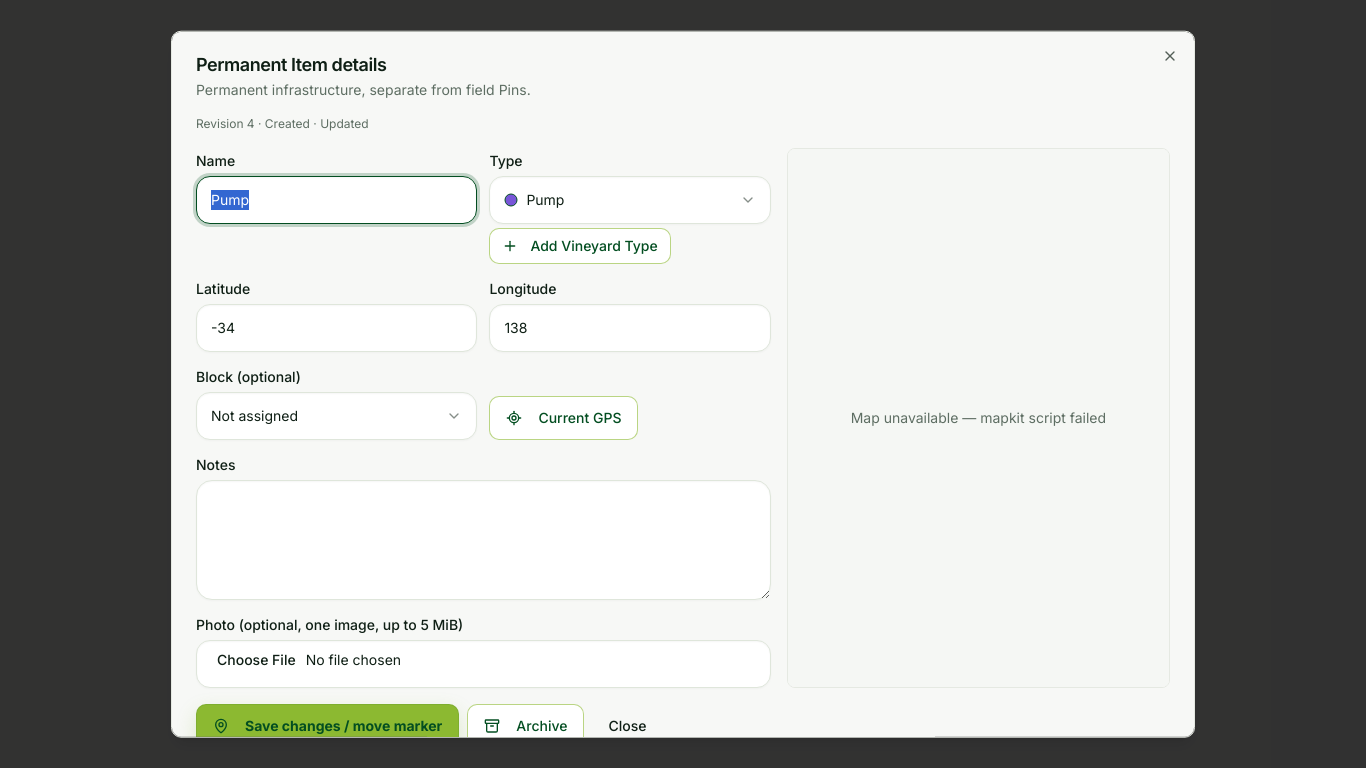
Test: owner saves edits and moves with the exact existing revision
This screenshot has width=1366, height=768.
Replace the text in the field labelled "Name" with "Moved pump" at {"x": 337, "y": 200}, box [196,176,477,224]
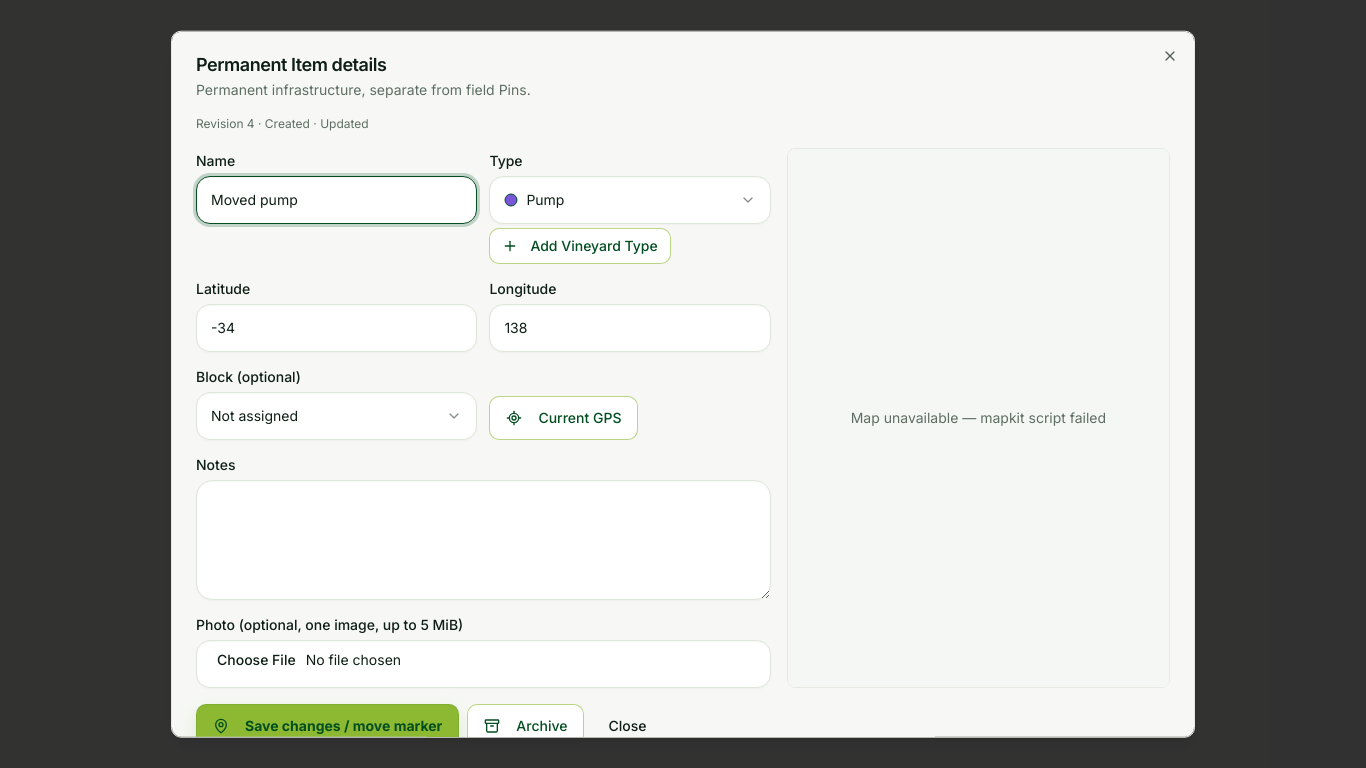
Replace the text in the field labelled "Latitude" with "-35" at {"x": 337, "y": 328}, box [196,304,477,352]
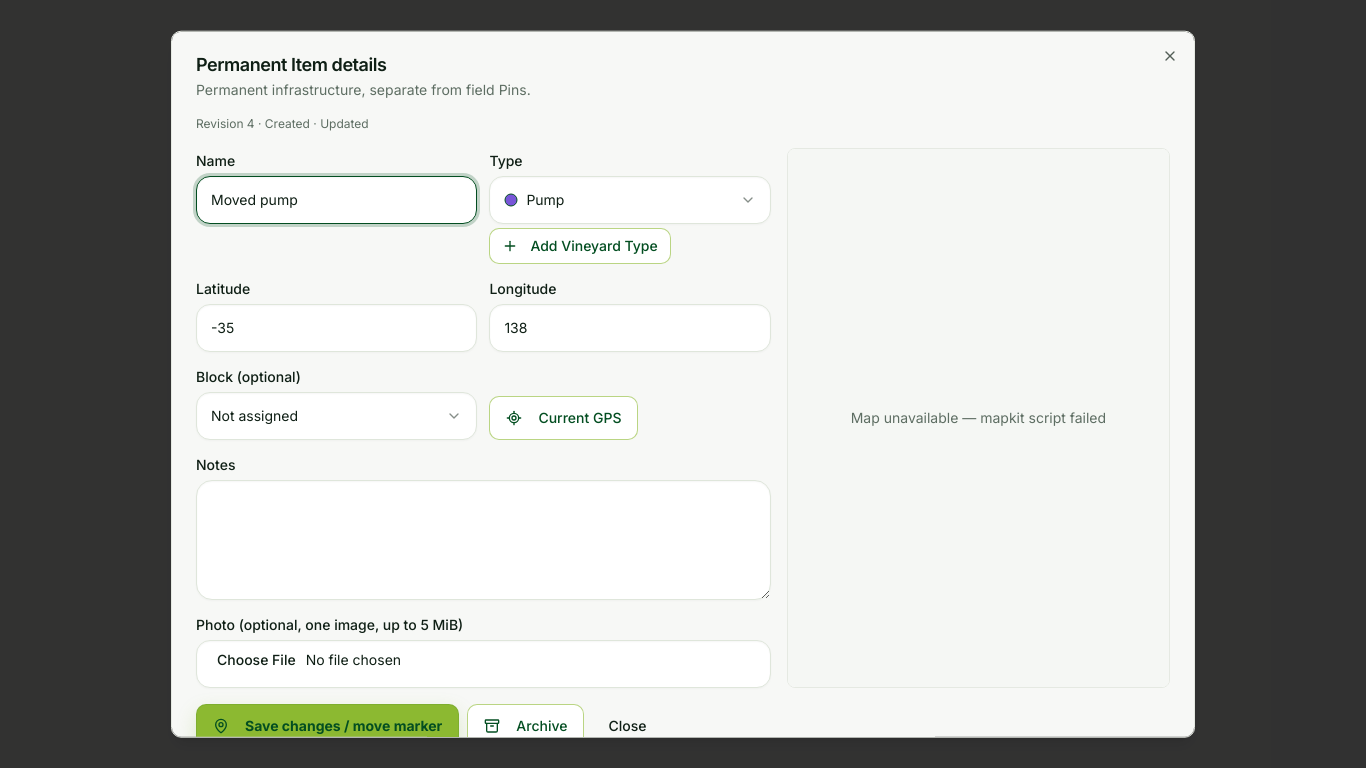
Click the button "Save changes / move marker" at {"x": 328, "y": 726}, box [196,704,459,748]
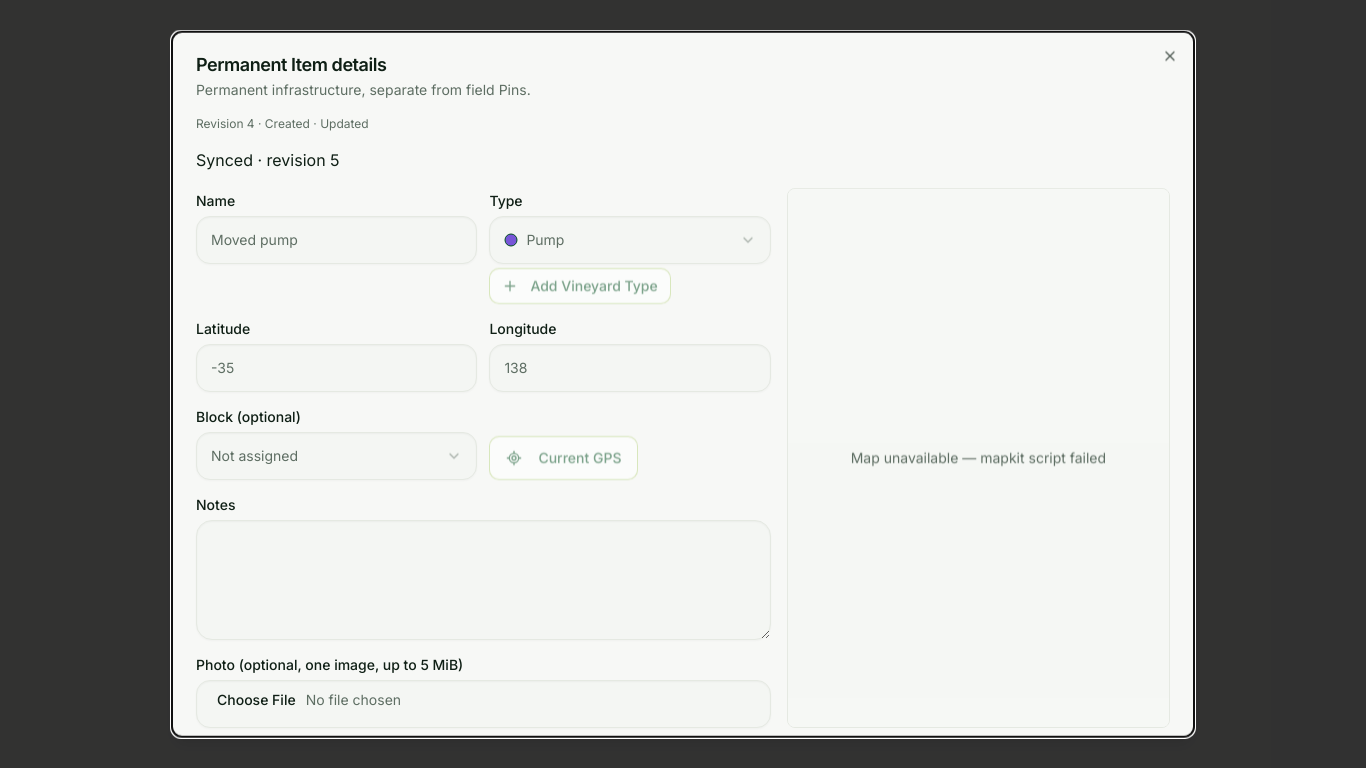
Result: the text "Synced · revision 5" is shown at [196,150,340,170]
